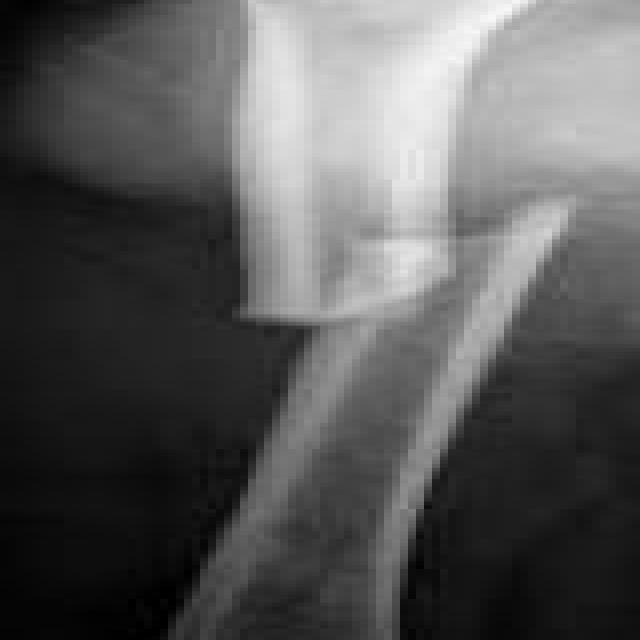Broken: (173, 200, 576, 635), (241, 3, 538, 325)
